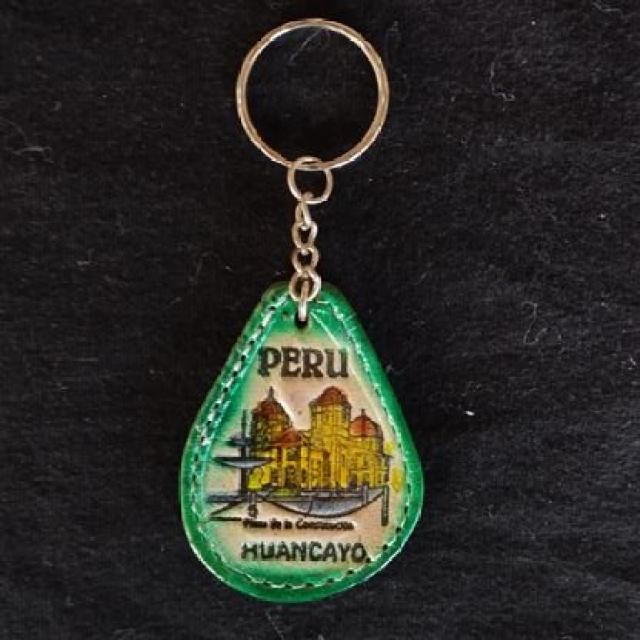Llavero: (177, 277, 426, 605)
